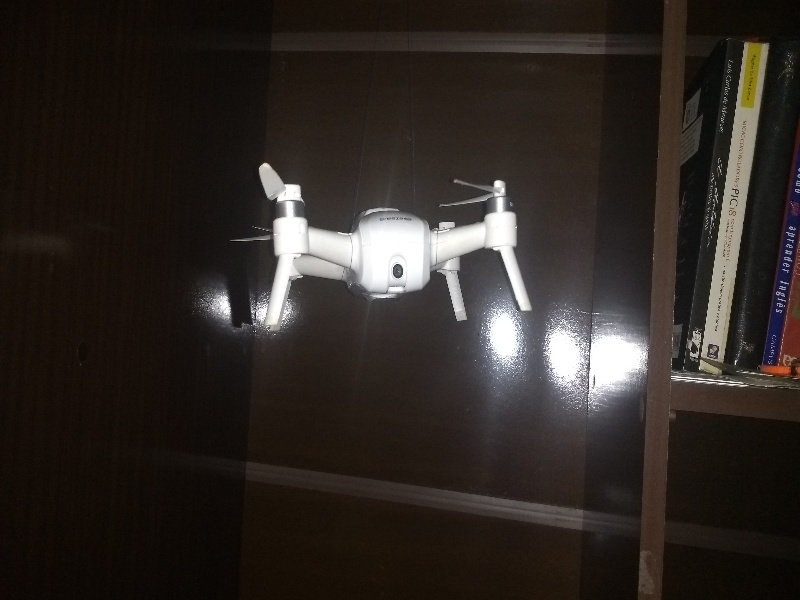drone: (242, 149, 537, 330)
